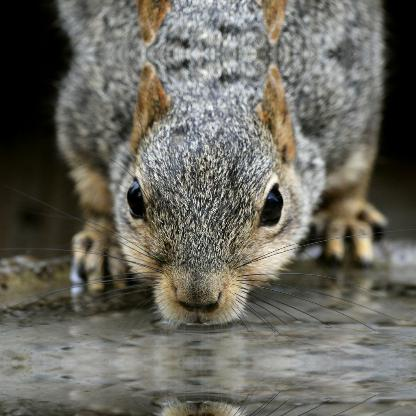Squirrel: (0, 53, 415, 334)
